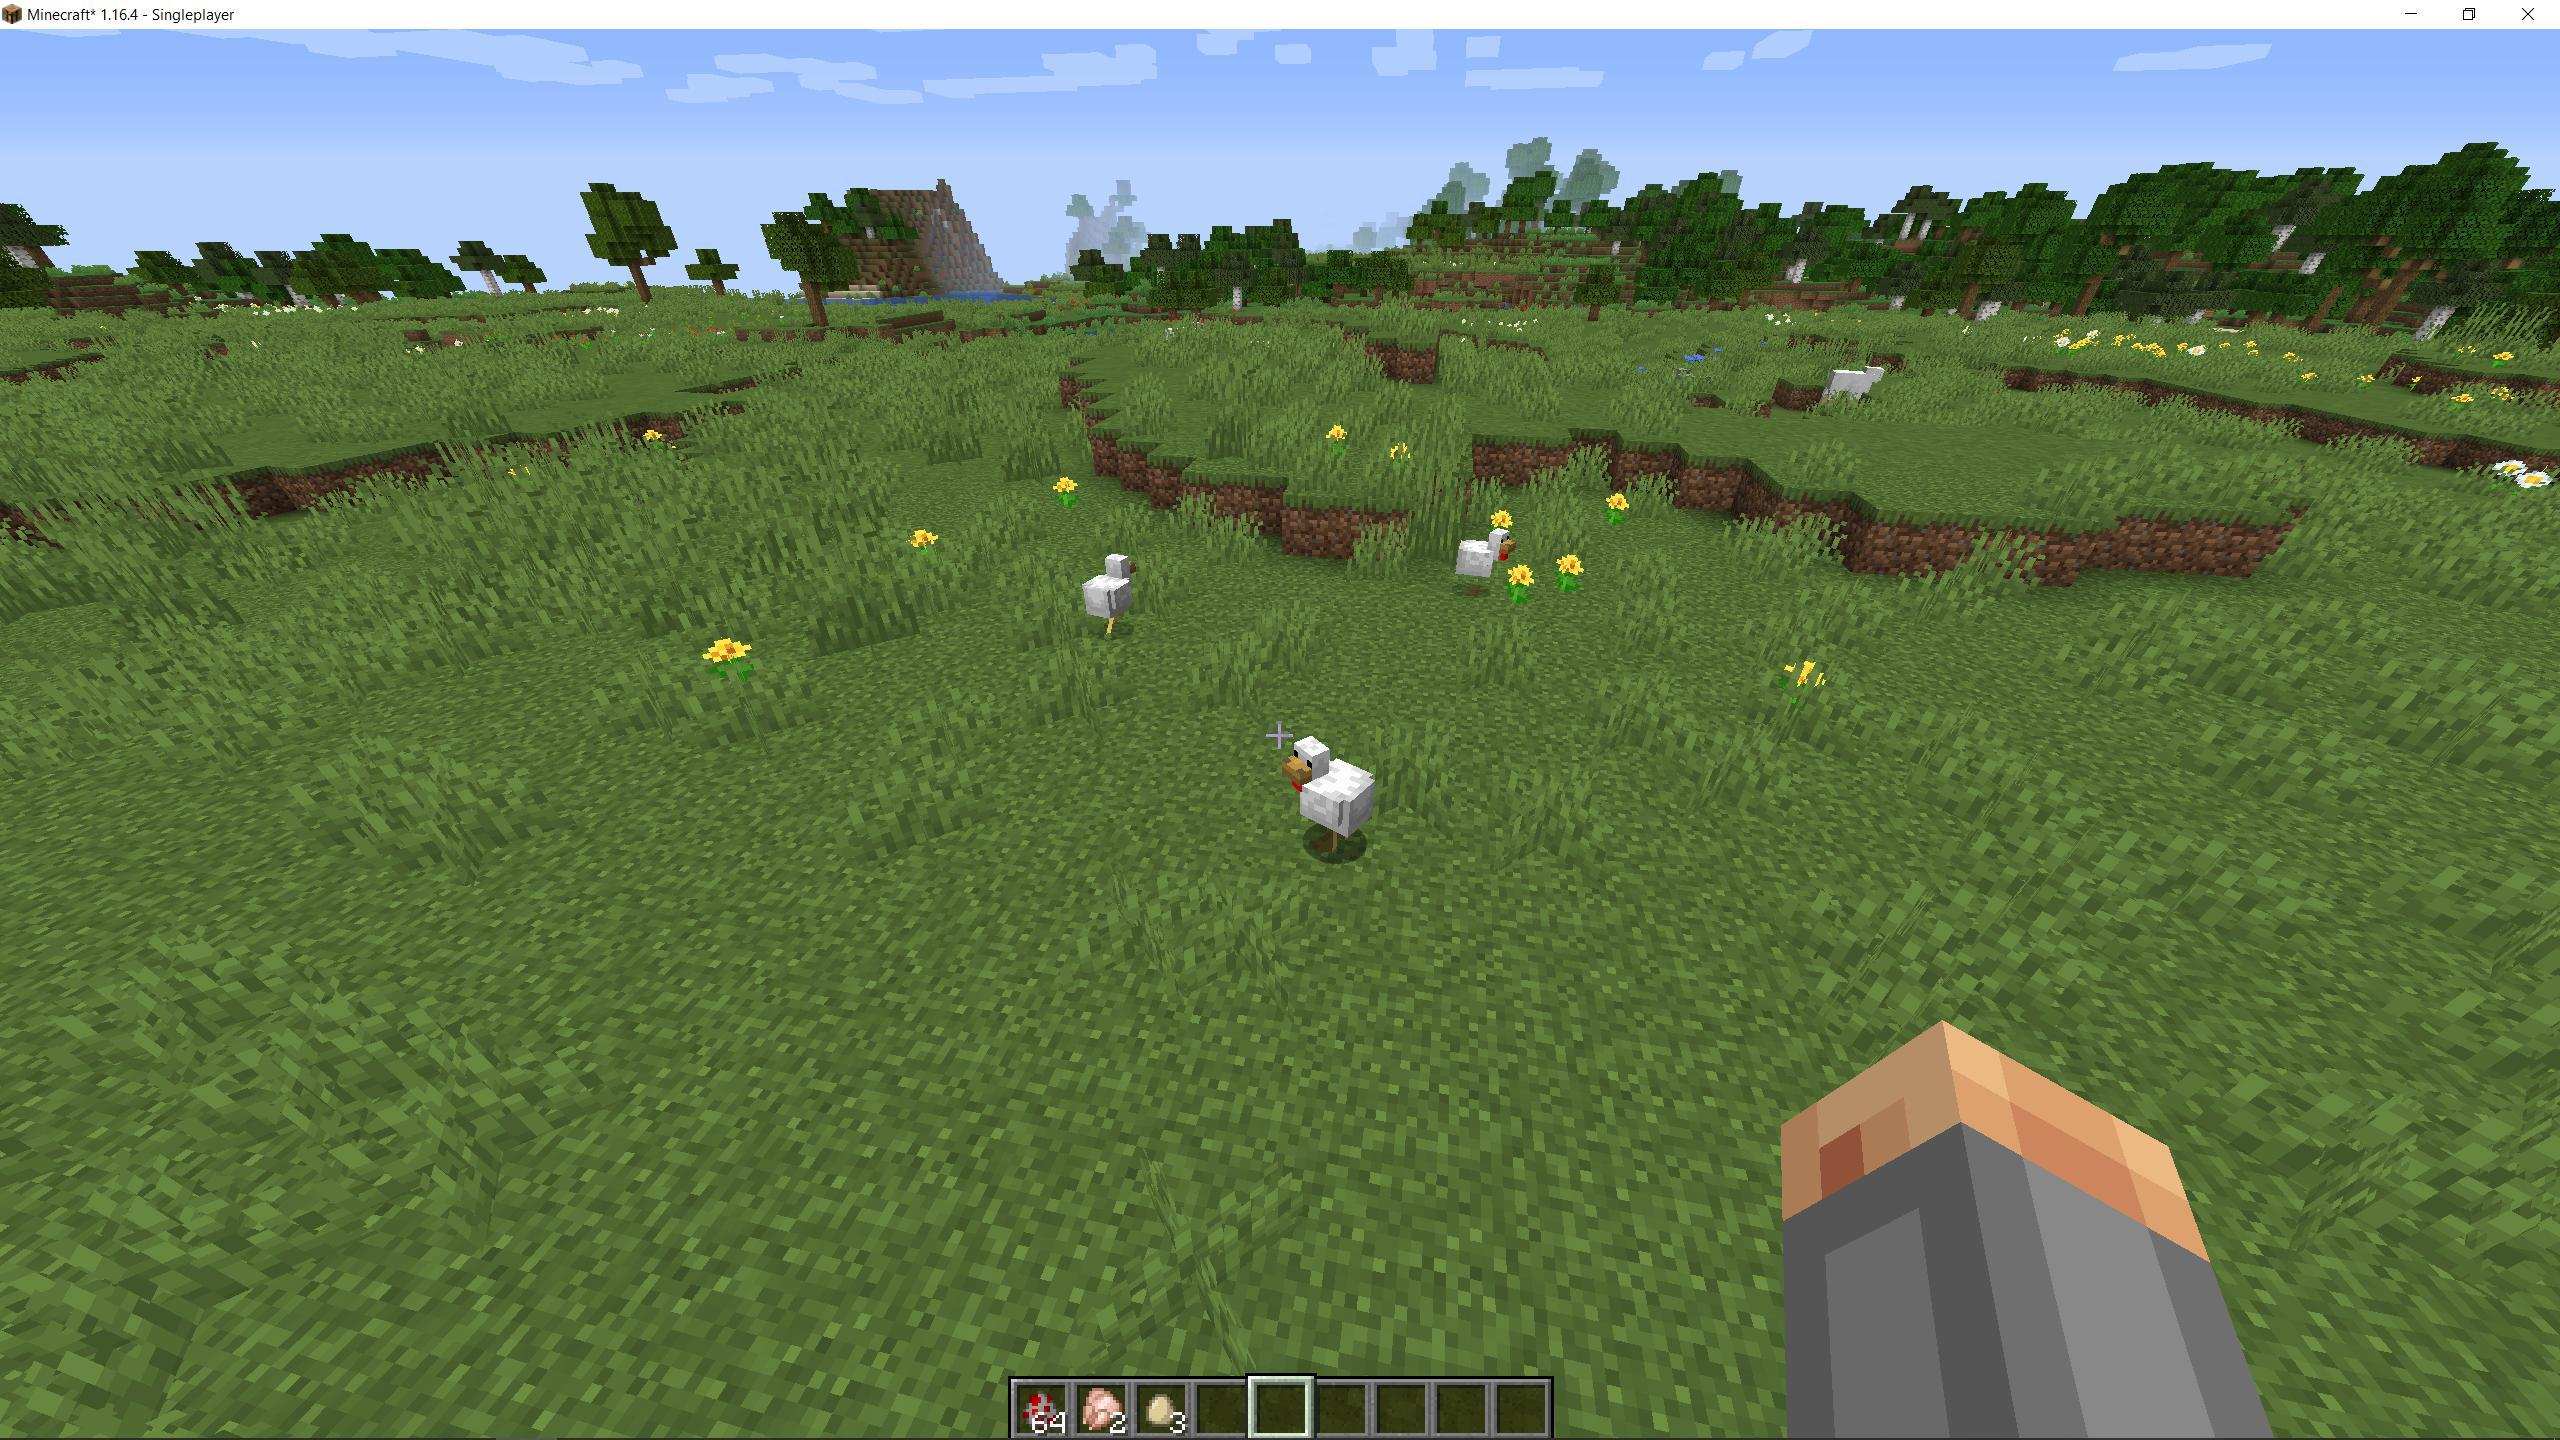chicken: (1278, 726, 1380, 870), (1078, 549, 1150, 649), (1451, 520, 1523, 594)
